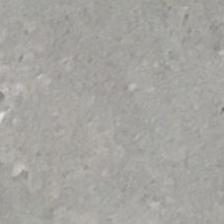Non_Crack: (70, 0, 203, 212)
